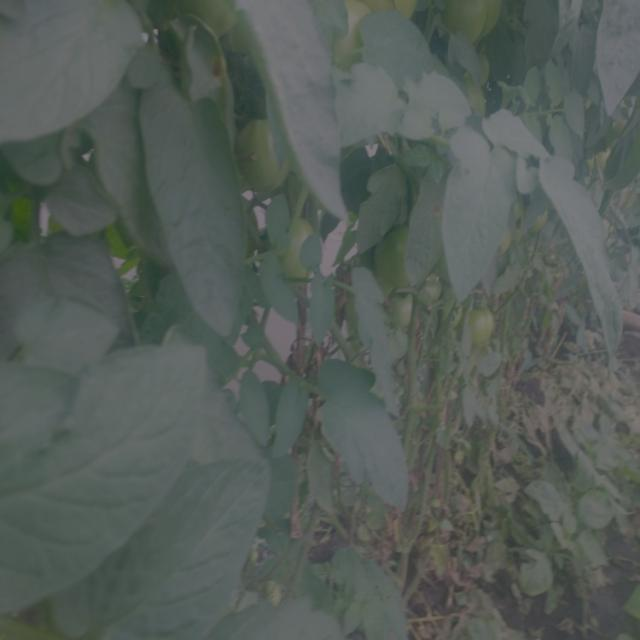tomato: (238, 114, 296, 192), (371, 224, 421, 294), (280, 216, 318, 278), (445, 1, 504, 39), (334, 1, 367, 55), (470, 301, 500, 355), (106, 220, 133, 262)
